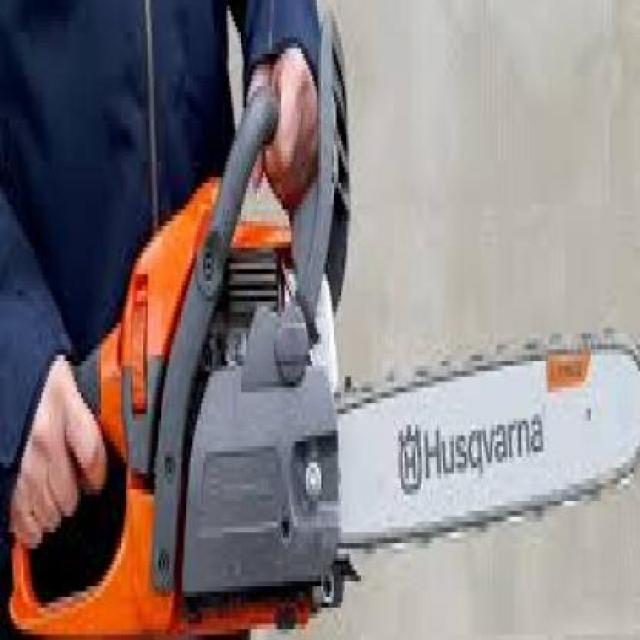Chainsaw: (1, 4, 640, 640)
